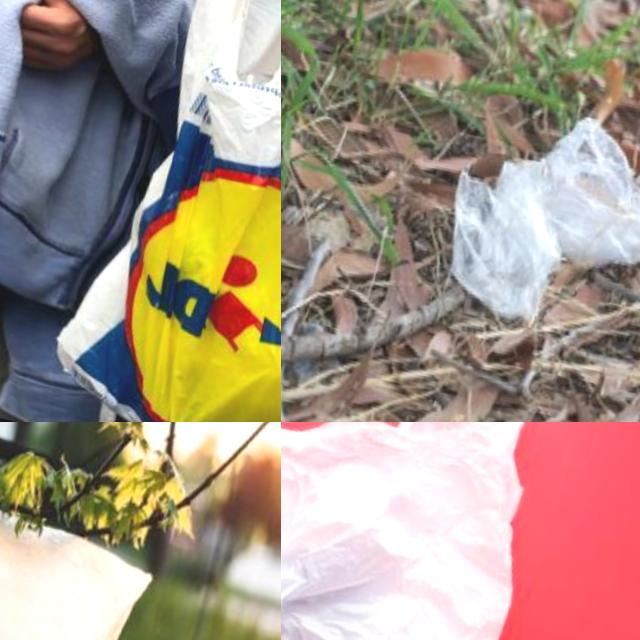sacola plástica: (0, 0, 281, 422), (419, 75, 640, 362), (281, 422, 568, 640), (0, 451, 174, 640)
